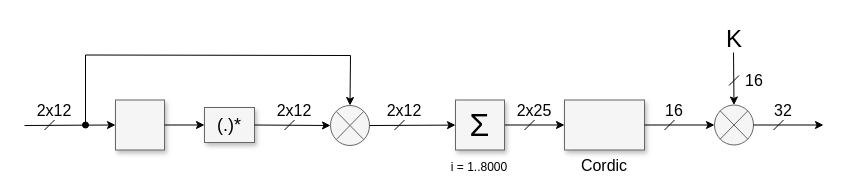
Some shapes in this 849 by 193 pixel diagram are drawn without their labels. Each missing label, with the centre of its shape:
Arg(.): the point at 605,126
Z -1: the point at 140,126
